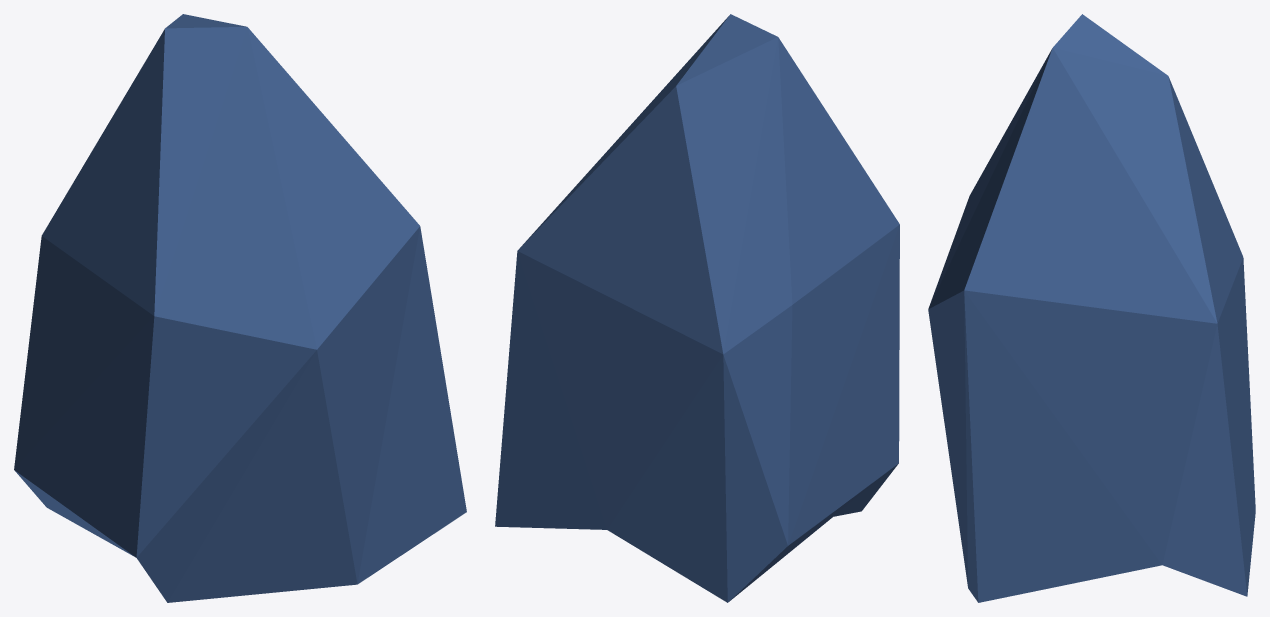
File: tree-winter-leaves-7-051.glb
The picture shows the model from 3 angles, left to right: view 1: azimuth 30°, elevation 25°; view 2: azimuth 150°, elevation 25°; view 3: azimuth 270°, elevation 25°; orthographic projection. The views are drawn at different scales.
Parts seen in each view (by area): view 1: TREE 7.005_206; view 2: TREE 7.005_206; view 3: TREE 7.005_206.
Boxes of the visible parts, left/top/right/bottom form: TREE 7.005_206: left=14, top=14, right=466, bottom=602; TREE 7.005_206: left=495, top=14, right=899, bottom=602; TREE 7.005_206: left=928, top=14, right=1255, bottom=602.
Bounding box in the file's own units: 0.7087 × 1.11 × 0.6447.
